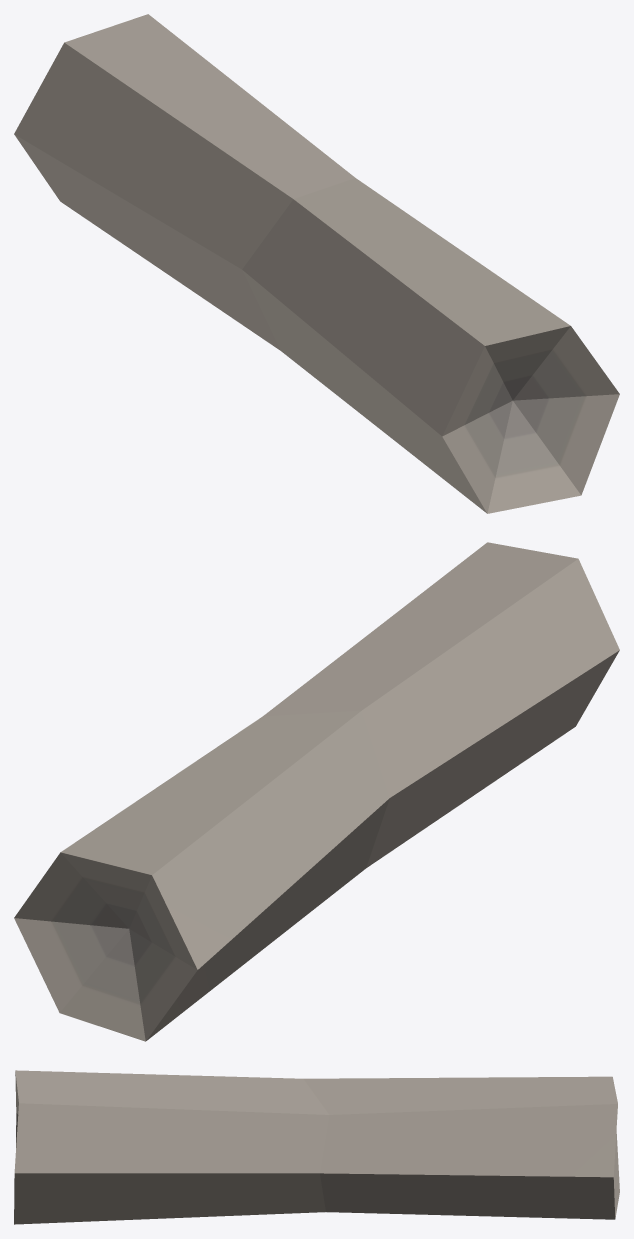
File: ancient_SM_Prop_Scroll_01.gltf
3 views of the same model, one above another, from view 1: azimuth 30°, elevation 25°; view 2: azimuth 150°, elevation 25°; view 3: azimuth 270°, elevation 25° (orthographic). The views are drawn at different scales.
Visible parts, largest first — view 1: SM_Prop_Scroll_01; view 2: SM_Prop_Scroll_01; view 3: SM_Prop_Scroll_01.
Part boxes in pixels (x1=…): SM_Prop_Scroll_01: x1=14, y1=14, x2=619, y2=513; SM_Prop_Scroll_01: x1=14, y1=542, x2=619, y2=1041; SM_Prop_Scroll_01: x1=14, y1=1070, x2=619, y2=1224.
Bounding box in the file's own units: 0.1332 × 0.1181 × 0.535.
Materials: 1 (1 with a texture image).
